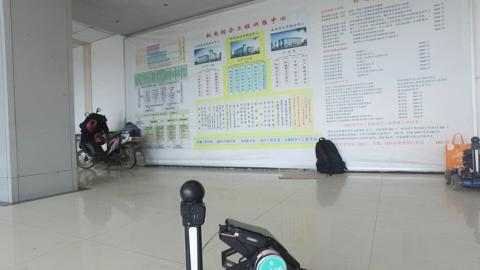bag: (313, 135, 349, 176), (443, 131, 472, 174)
chariot: (445, 136, 480, 191)
